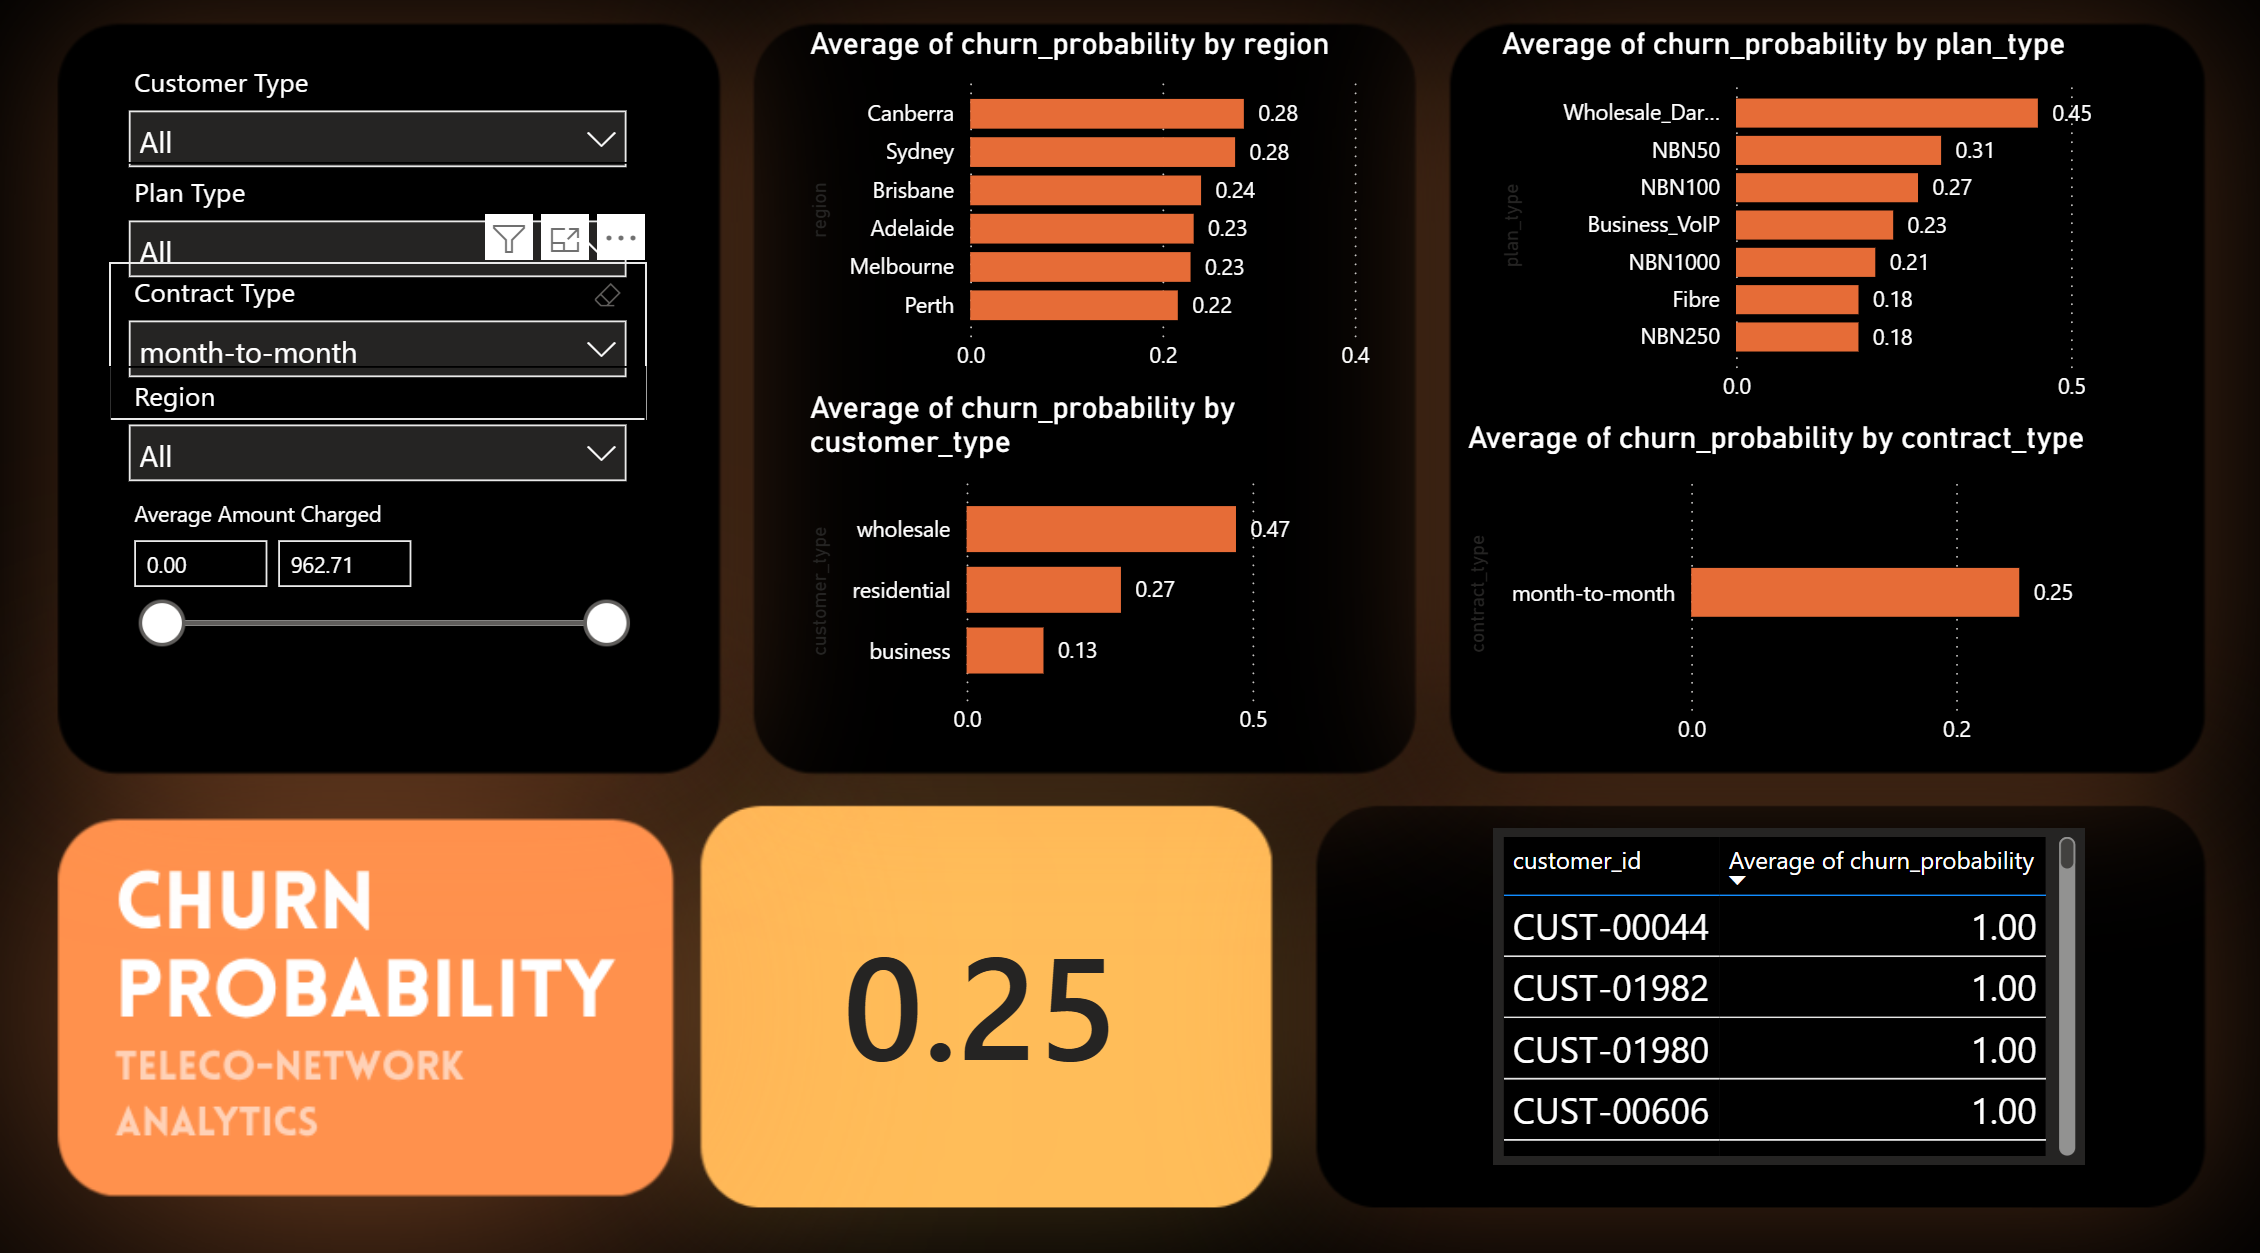

This screenshot's page, from the dashboard's own definition file:
{"tool":"powerbi","page":{"name":"Churn Probability","canvas":[1280,720],"ordinal":3},"visuals":[{"type":"cardVisual","fields":{"Data":["Avg(churn_scores.churn_probability)"]},"box":[391.4,494.3,337.1,140],"z":0},{"type":"slicer","fields":{"Values":["churn_scores.customer_type"]},"box":[75.7,38.6,298.6,87.1],"z":1000},{"type":"slicer","fields":{"Values":["churn_scores.plan_type"]},"box":[75.7,100,298.6,87.1],"z":2000},{"type":"slicer","fields":{"Values":["churn_scores.contract_type"]},"box":[75.7,155.7,298.6,87.1],"z":3000},{"type":"slicer","fields":{"Values":["churn_scores.region"]},"box":[75.7,212.9,298.6,87.1],"z":4000},{"type":"barChart","fields":{"Y":["Avg(churn_scores.churn_probability)"],"Category":["churn_scores.region"]},"box":[460,24.3,341.4,201.4],"z":5000},{"type":"slicer","fields":{"Values":["churn_scores.avg_amount_charged"]},"box":[75.7,281.4,298.6,92.9],"z":6000},{"type":"tableEx","fields":{"Values":["churn_scores.customer_id","Avg(churn_scores.churn_probability)"]},"box":[844.3,470,328.6,187.1],"z":7000},{"type":"barChart","fields":{"Y":["Avg(churn_scores.churn_probability)"],"Category":["churn_scores.plan_type"]},"box":[844.3,24.3,420,218.6],"z":8000},{"type":"barChart","fields":{"Y":["Avg(churn_scores.churn_probability)"],"Category":["churn_scores.customer_type"]},"box":[460,227.1,341.4,201.4],"z":9000},{"type":"barChart","fields":{"Y":["Avg(churn_scores.churn_probability)"],"Category":["churn_scores.contract_type"]},"box":[825.7,242.9,420,190],"z":9001}]}

Visuals, with their boxes in screenshot pixels (x1, y1, x2, y2), scaled from the page's 1280x720 canvas onto the 2260x1253 screenshot:
cardVisual - Avg(churn_scores.churn_probability): <bbox>691, 860, 1286, 1104</bbox>
slicer - churn_scores.customer_type: <bbox>134, 67, 661, 219</bbox>
slicer - churn_scores.plan_type: <bbox>134, 174, 661, 326</bbox>
slicer - churn_scores.contract_type: <bbox>134, 271, 661, 423</bbox>
slicer - churn_scores.region: <bbox>134, 371, 661, 522</bbox>
barChart - Avg(churn_scores.churn_probability) x churn_scores.region: <bbox>812, 42, 1415, 393</bbox>
slicer - churn_scores.avg_amount_charged: <bbox>134, 490, 661, 651</bbox>
tableEx - churn_scores.customer_id x Avg(churn_scores.churn_probability): <bbox>1491, 818, 2071, 1144</bbox>
barChart - Avg(churn_scores.churn_probability) x churn_scores.plan_type: <bbox>1491, 42, 2232, 423</bbox>
barChart - Avg(churn_scores.churn_probability) x churn_scores.customer_type: <bbox>812, 395, 1415, 746</bbox>
barChart - Avg(churn_scores.churn_probability) x churn_scores.contract_type: <bbox>1458, 423, 2199, 753</bbox>
